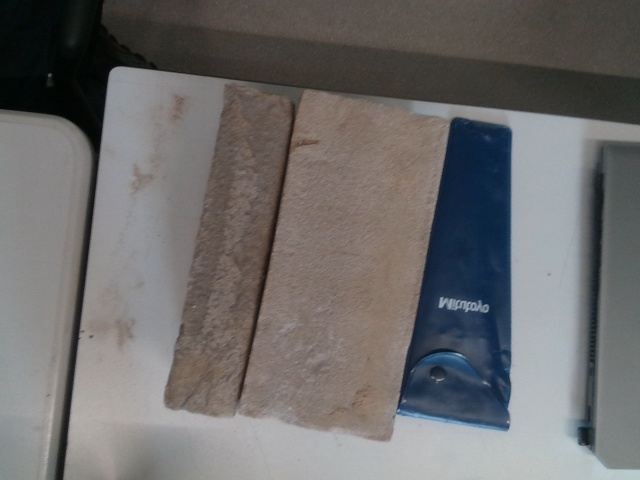brick: (244, 97, 447, 437)
